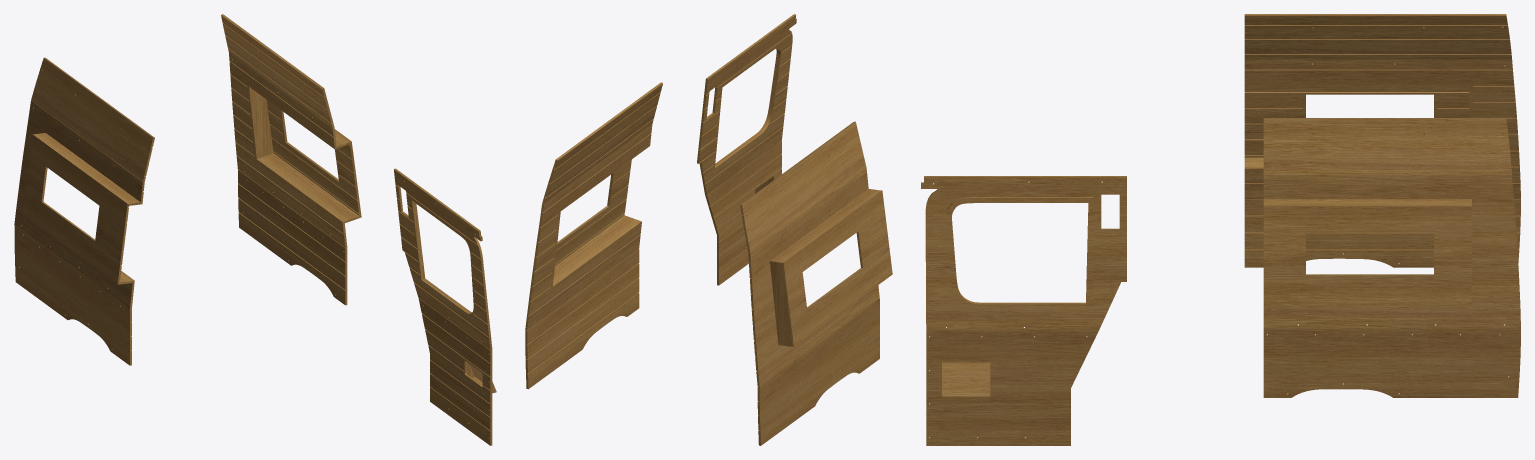
File: wall-and-ceiling-five.glb
3 views of the same model, side by side, from view 1: azimuth 30°, elevation 25°; view 2: azimuth 150°, elevation 25°; view 3: azimuth 270°, elevation 25° (orthographic). The views are drawn at different scales.
Bounding box in the file's own units: 1.9 × 1.88 × 3.28.
1 material, 1 textured.
